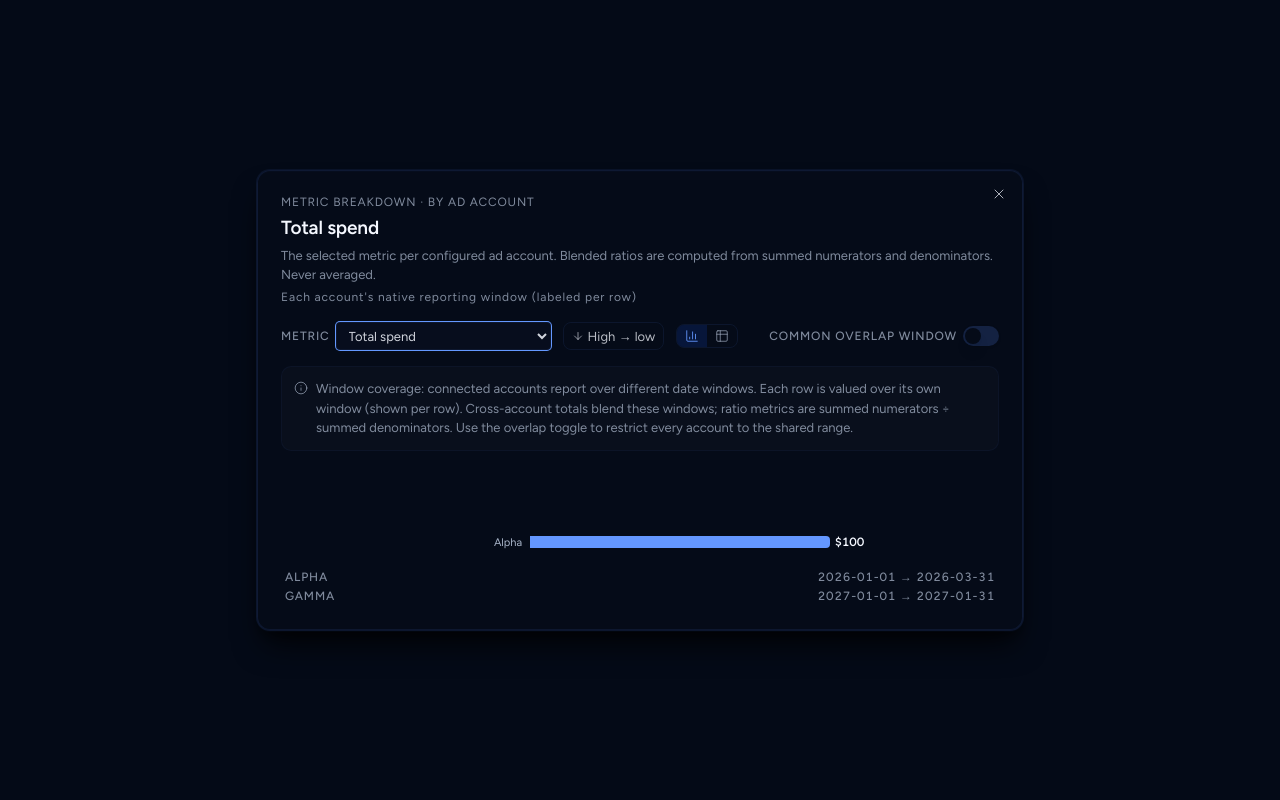
Scenario: KpiDrilldownModal · manager scope › overlap toggle with disjoint windows shows the honest empty state
This screenshot has width=1280, height=800.
Click the switch named "common overlap window".
click(981, 336)  # box [963,326,999,346]
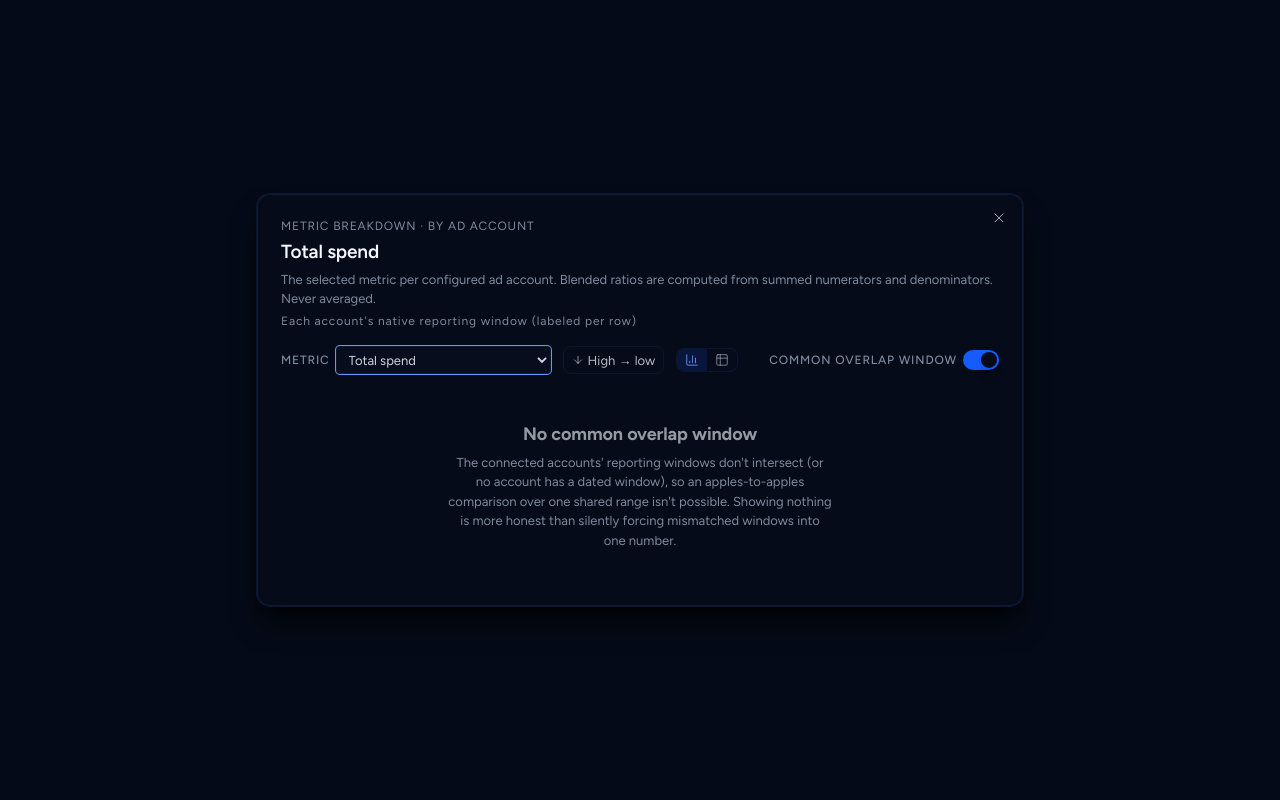
Expected: the element with test id "kpi-drilldown-empty" shows "No common overlap window", [523,423,757,445]
